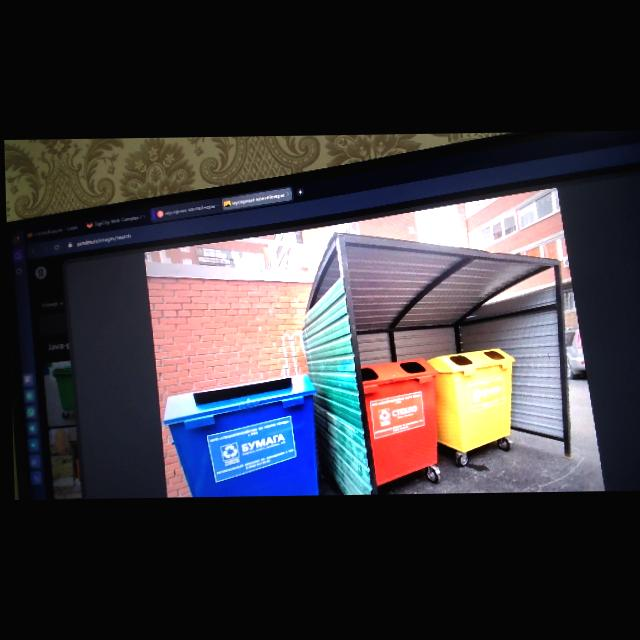Trash_Can_Closed: (159, 375, 317, 498), (356, 358, 439, 487), (424, 349, 515, 456)
